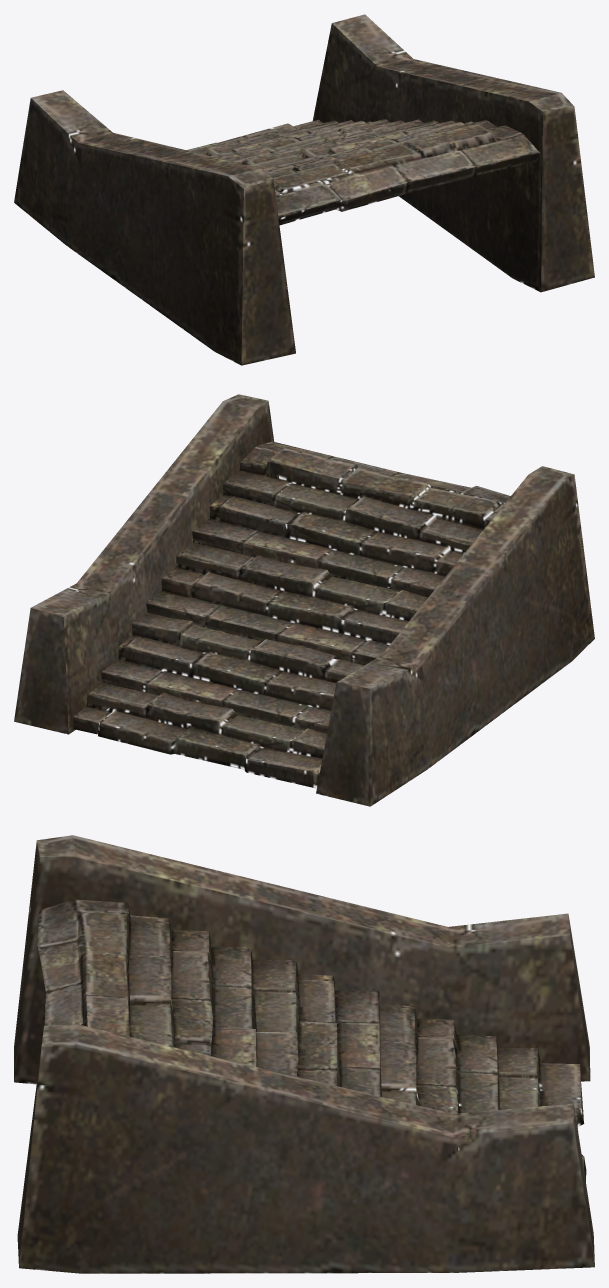
File: miniboss_01-1.glb
The picture shows the model from 3 angles, top to bottom: view 1: azimuth 30°, elevation 25°; view 2: azimuth 150°, elevation 25°; view 3: azimuth 270°, elevation 25°; orthographic projection. The views are drawn at different scales.
Visible parts, largest first — view 1: Object01; view 2: Object01; view 3: Object01.
Part boxes in pixels (box(x1,y1,x2,y2)): Object01: box(14, 14, 594, 365); Object01: box(14, 394, 594, 806); Object01: box(14, 835, 594, 1273).
Bounding box in the file's own units: 11.69 × 5.4 × 12.76.
Materials: 1 (1 with a texture image).
